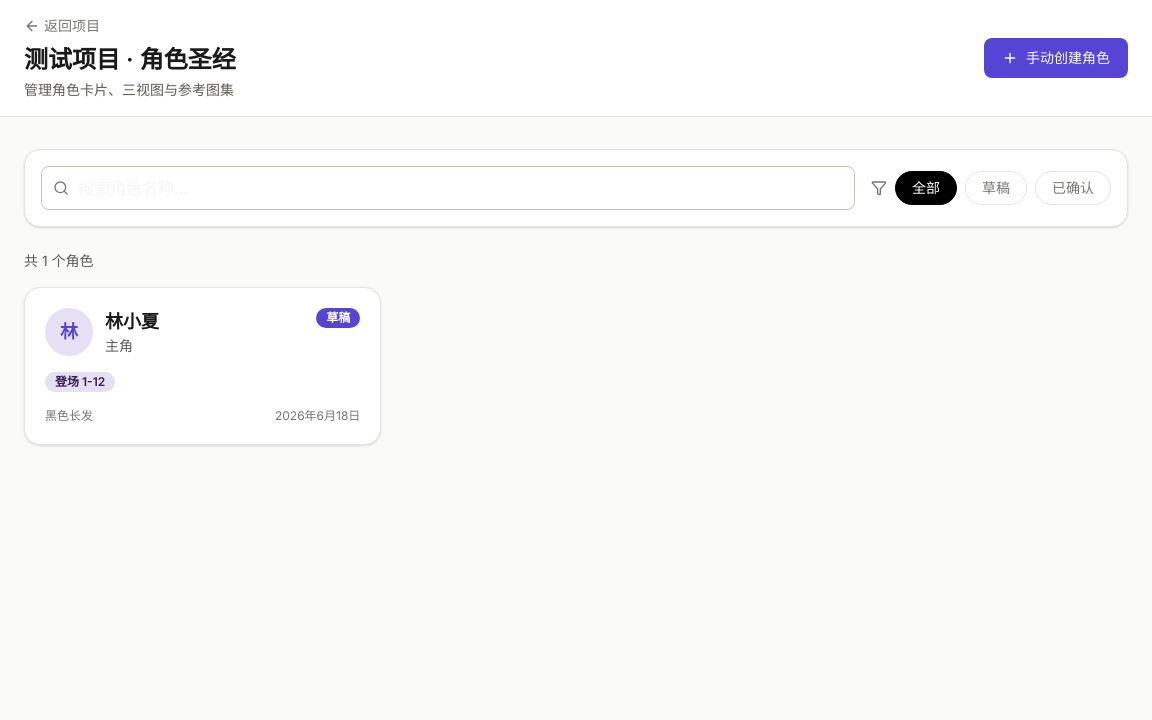
Scenario: CharacterListPage › filters characters by search
Check: the heading "林小夏" is shown, box [105, 308, 159, 336]
Type "不存在" into the field labelled "搜索角色" at (448, 188), box [41, 166, 855, 210]
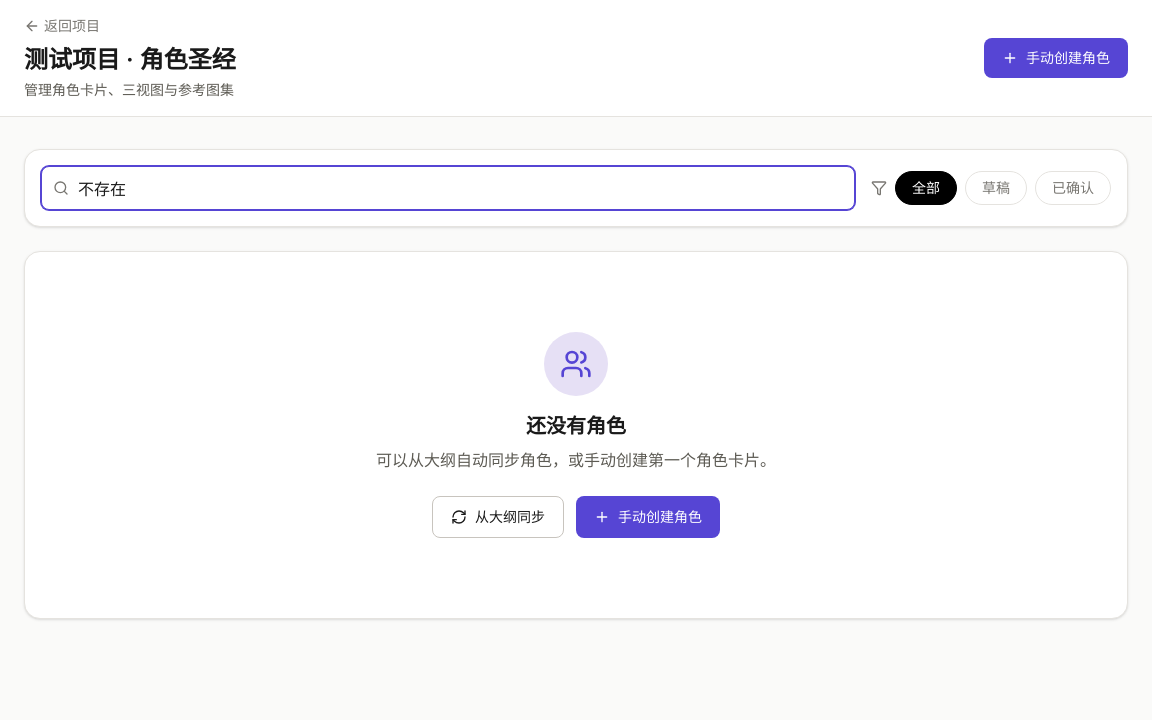
Check: the link "林小夏" is gone
